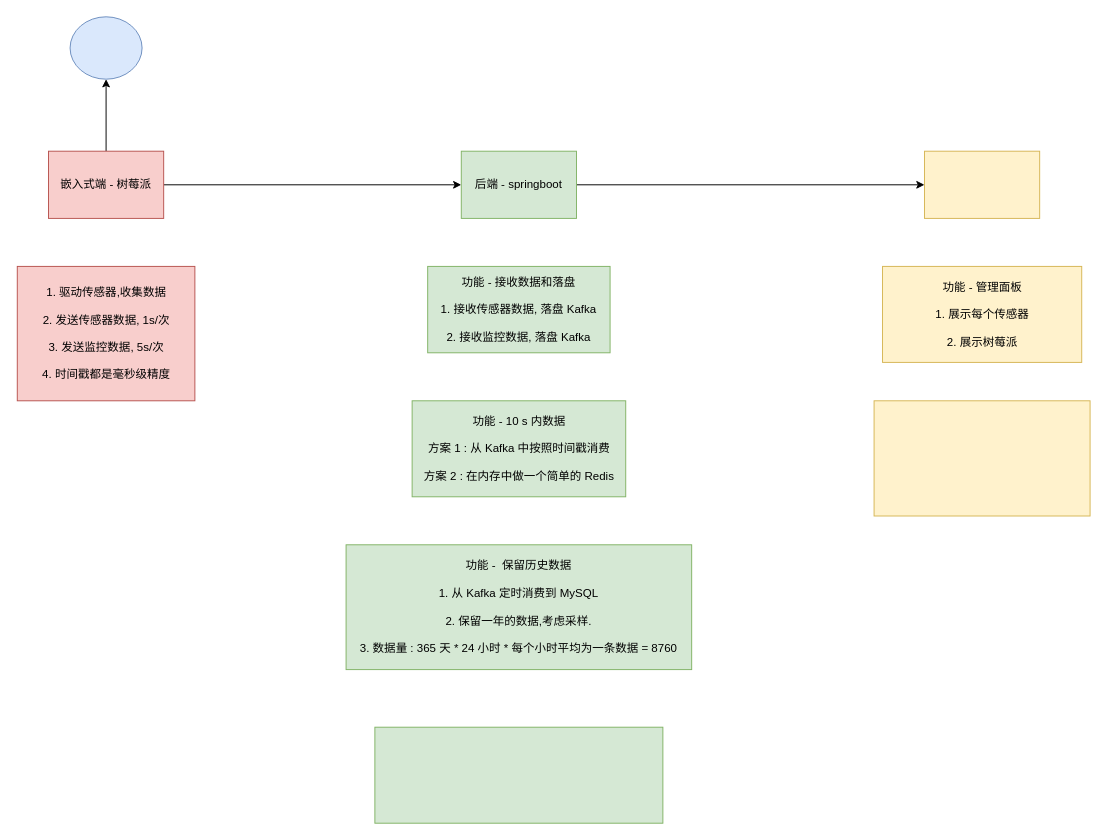
Some shapes in this 1107 by 840 pixel diagram are drawn without their labels. Each missing label, with the box of its shape:
前端 - vue: (924, 150, 1040, 218)
功能 - 条件查询 0. 展示最新的 10s 内数据 ( 默认 ) 1. 按时间区间查询 2. 按数据 (比如温度区间) 查询: (873, 400, 1090, 516)
功能 - 注册树莓派和传感器 1. 接收树莓派和所带的传感器信息 2. MySQL 保留注册信息: (374, 726, 663, 823)
各种传感器: (69, 16, 142, 79)
